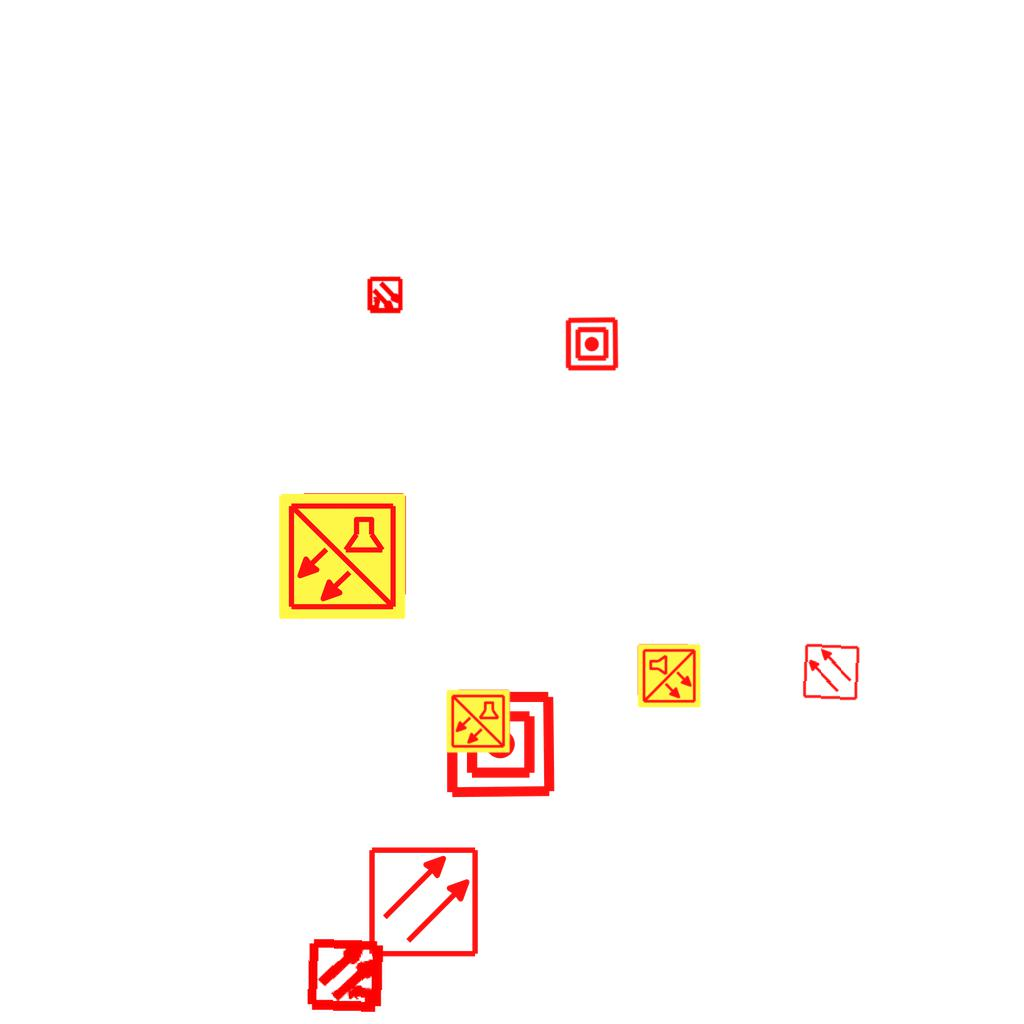NAM-Nichtautomatischer_Melder: (444, 688, 557, 801), (564, 316, 620, 372)
OKW_Multisensormelder_(Kombination_optischer_Rauch-Kahlenmonoxid_Waerme-Melder): (276, 490, 408, 622), (636, 643, 702, 709), (445, 688, 511, 754)
OT_Multisensormelder_(Kombination_RMO_WMD): (289, 917, 406, 1024), (357, 268, 413, 324)
RMO_Rauchmelder_optischer: (367, 845, 480, 958), (801, 642, 861, 702)
